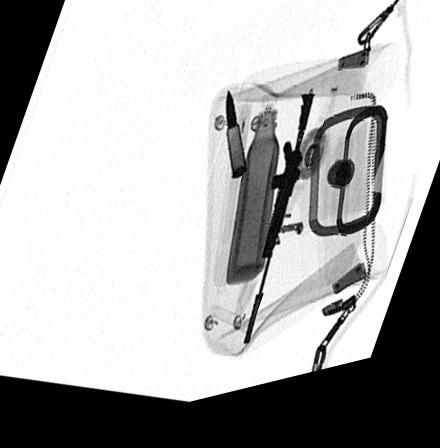Bullet: (223, 98, 245, 190)
Gun: (242, 106, 313, 357)
